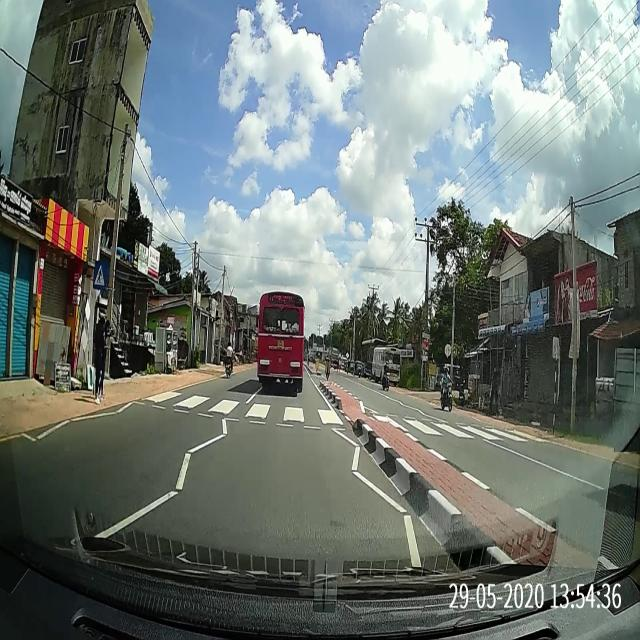Crosswalk: (130, 389, 553, 444)
